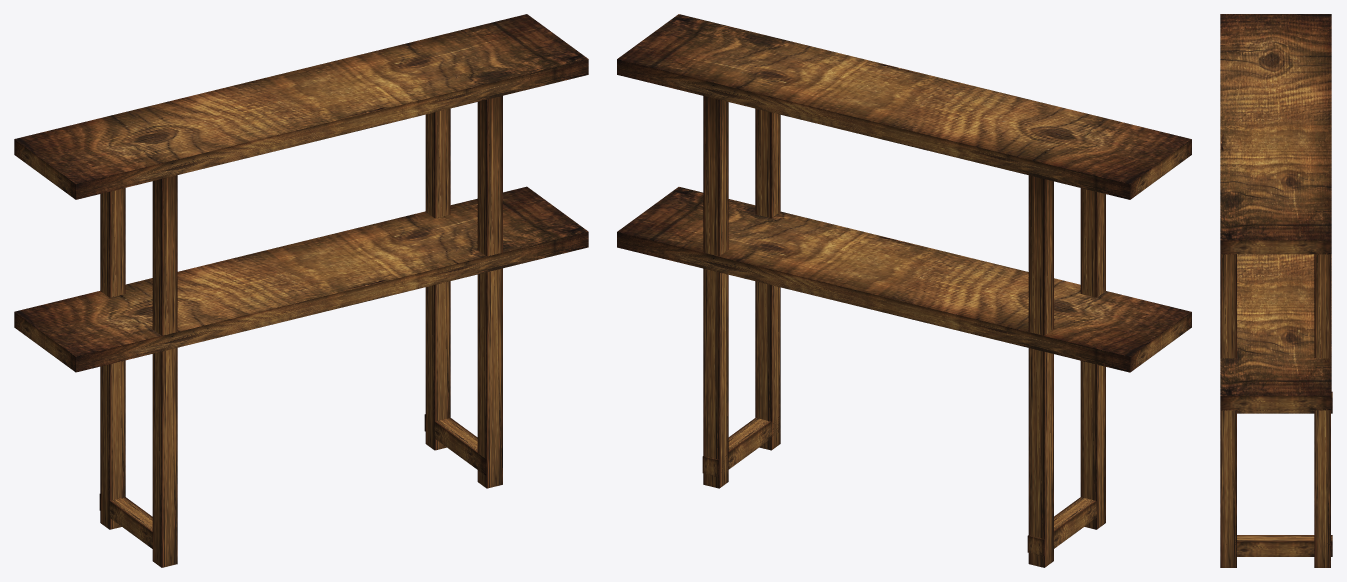
Rendered from bar shelf.fbx.
3 renders of one model, left to right at view 1: azimuth 30°, elevation 25°; view 2: azimuth 150°, elevation 25°; view 3: azimuth 270°, elevation 25°, orthographic. The views are drawn at different scales.
Visible parts, largest first — view 1: Cube, Cube_1, leg1, leg1_2, leg1_1, leg1_3, brace, brace_1; view 2: Cube, Cube_1, leg1_3, leg1_1, leg1, leg1_2, brace, brace_1; view 3: Cube, Cube_1, leg1_2, leg1_3, brace, brace_1.
Part boxes in pixels (left/top/right/bottom): Cube: left=14, top=14, right=588, bottom=199; Cube_1: left=14, top=186, right=588, bottom=372; leg1: left=152, top=175, right=177, bottom=567; leg1_2: left=477, top=96, right=502, bottom=488; leg1_1: left=100, top=188, right=125, bottom=529; leg1_3: left=425, top=108, right=450, bottom=450; brace: left=424, top=414, right=486, bottom=475; brace_1: left=99, top=494, right=152, bottom=548; Cube: left=617, top=14, right=1191, bottom=199; Cube_1: left=617, top=187, right=1191, bottom=372; leg1_3: left=703, top=96, right=728, bottom=488; leg1_1: left=1028, top=175, right=1053, bottom=567; leg1: left=1080, top=188, right=1105, bottom=529; leg1_2: left=755, top=108, right=780, bottom=450; brace: left=702, top=417, right=779, bottom=476; brace_1: left=1027, top=497, right=1096, bottom=556; Cube: left=1220, top=14, right=1331, bottom=254; Cube_1: left=1220, top=254, right=1331, bottom=410; leg1_2: left=1220, top=254, right=1236, bottom=567; leg1_3: left=1314, top=254, right=1330, bottom=567; brace: left=1236, top=535, right=1332, bottom=556; brace_1: left=1237, top=391, right=1332, bottom=413.
Bounding box in the file's own units: 48 × 36.19 × 10.08.
Materials: 1 (1 with a texture image).
